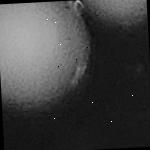colony: (0, 0, 100, 141), (80, 0, 148, 43), (140, 0, 148, 35)
